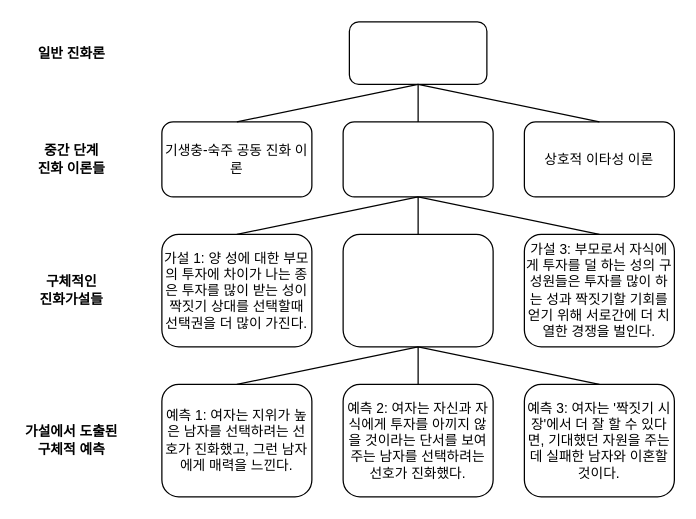
Image size: 696x519. Some labels were removed from this diagram. Here are the shapes that lost their labels. From the top down, the centre of each, then its label:
At pixel 417 52: "자연 선택에 의한 진화".
At pixel 417 159: "부모의 투자와 성 선택 이론".
At pixel 417 290: "가설 2: 수컷이 가끔 자식에게 자원을 주는 경우에는 암컷이 짝을 선택할 때 자원을 줄 수 있는 능력과 자발성을 일부 기준으로 삼는다.".
